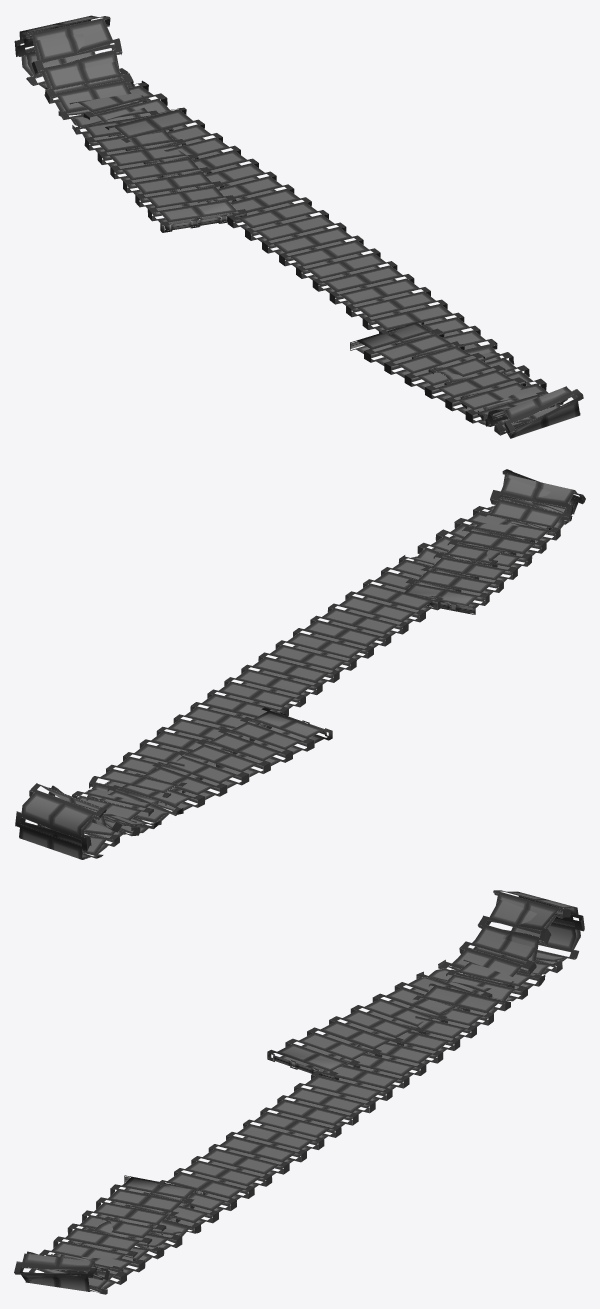
Rendered from SM_Destroy_Track.fbx.
3 renders of one model, top to bottom at view 1: azimuth 30°, elevation 25°; view 2: azimuth 150°, elevation 25°; view 3: azimuth 330°, elevation 25°, orthographic. The views are drawn at different scales.
Visible parts, largest first — view 1: T72_Track; view 2: T72_Track; view 3: T72_Track.
Boxes of the visible parts, x1,y1,x2,y2 form: T72_Track: (14, 15, 583, 438); T72_Track: (15, 469, 585, 859); T72_Track: (14, 890, 584, 1294).
Bounding box in the file's own units: 95.91 × 36.52 × 617.
